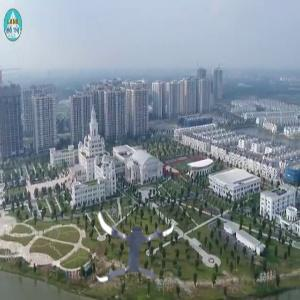drone: (91, 198, 180, 287)
